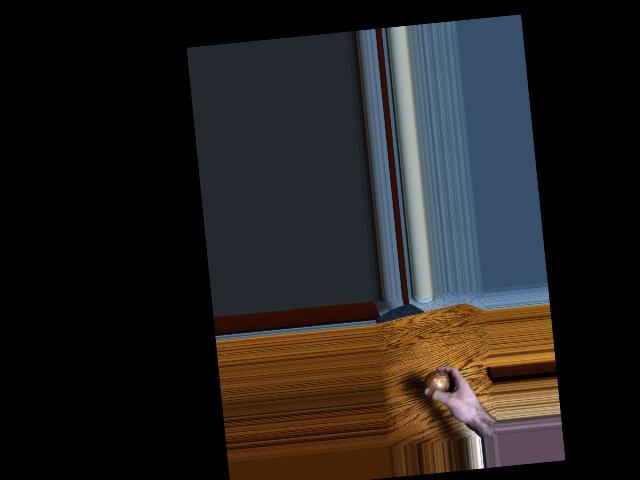onion: (423, 369, 450, 397)
